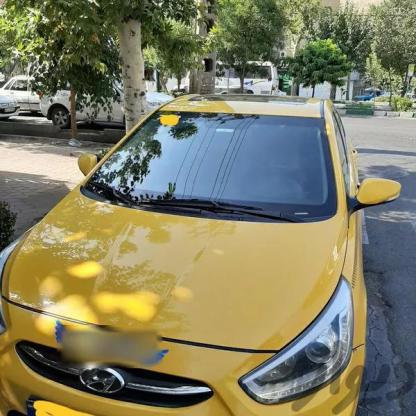Car: (0, 80, 384, 416), (38, 70, 161, 134)
